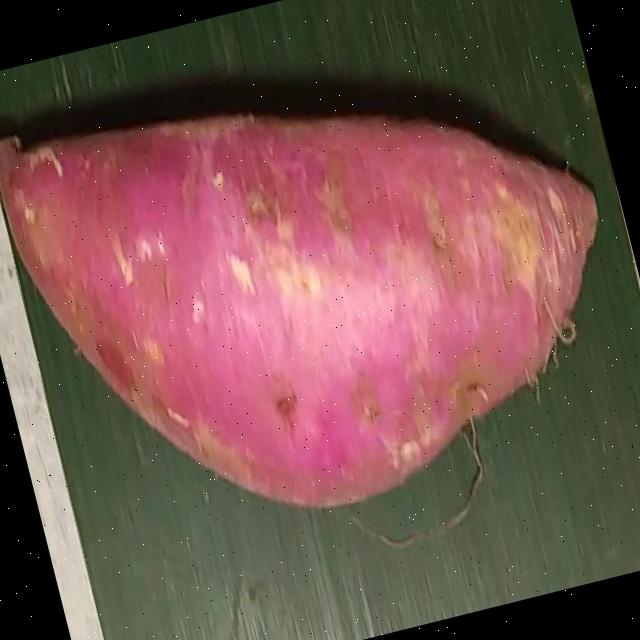Sweet Potato: (0, 107, 596, 503)
